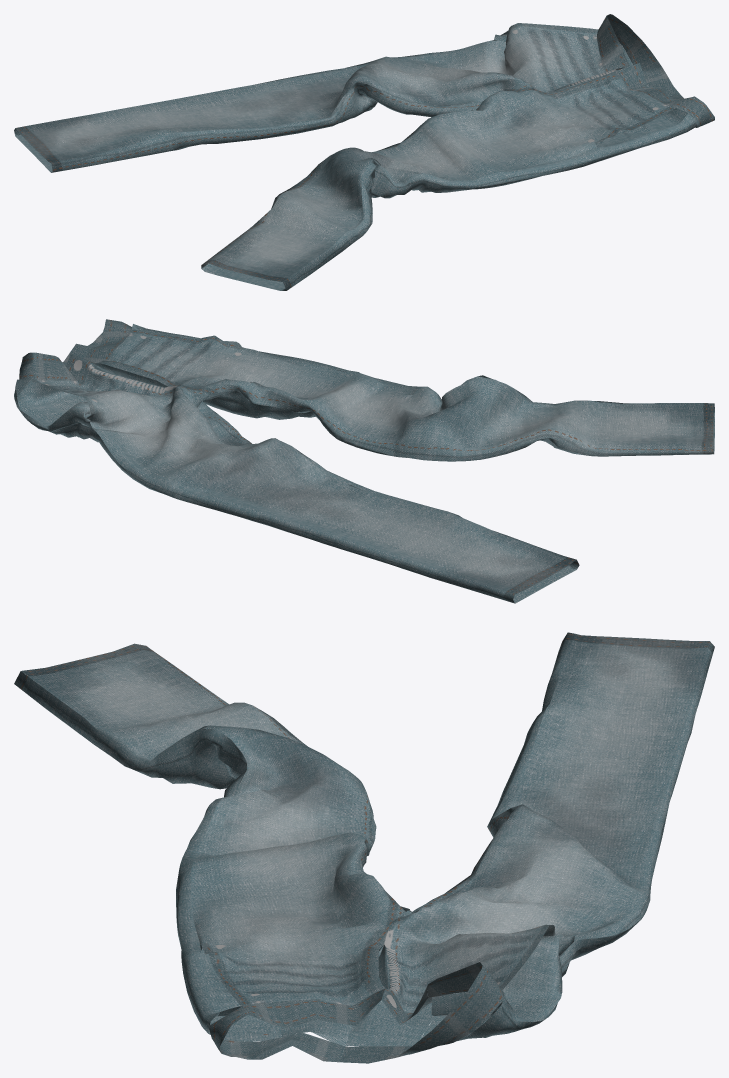
Rendered from SM_Trousers.fbx.
The picture shows the model from 3 angles, top to bottom: view 1: azimuth 30°, elevation 25°; view 2: azimuth 150°, elevation 25°; view 3: azimuth 270°, elevation 25°; orthographic projection. The views are drawn at different scales.
Parts seen in each view (by area): view 1: SM_Trousers_LOD0; view 2: SM_Trousers_LOD0; view 3: SM_Trousers_LOD0.
Boxes of the visible parts, x1,y1,x2,y2 form: SM_Trousers_LOD0: (14, 14, 714, 290); SM_Trousers_LOD0: (14, 319, 714, 603); SM_Trousers_LOD0: (14, 632, 714, 1063).
Size of the model in its own units: 130 by 92.27 by 11.67.
